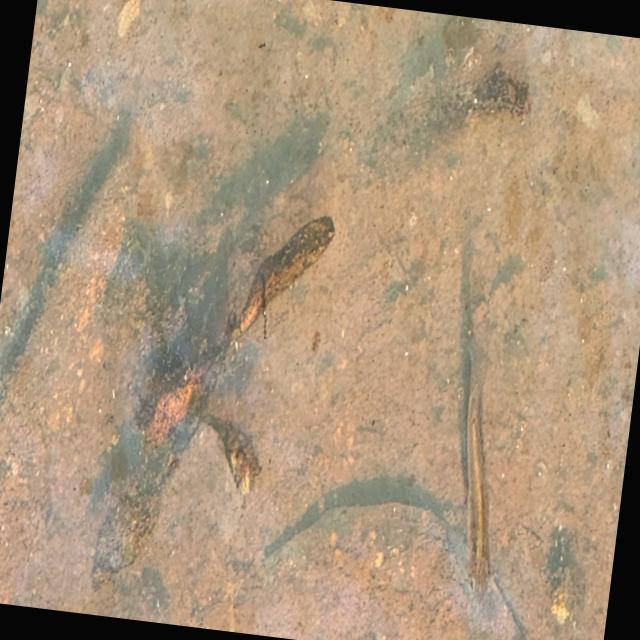Sivrisinek Baligi: (428, 343, 520, 596)
